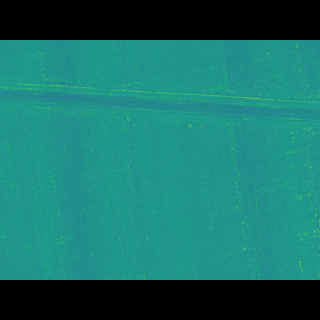Loch: (0, 99, 320, 139)
